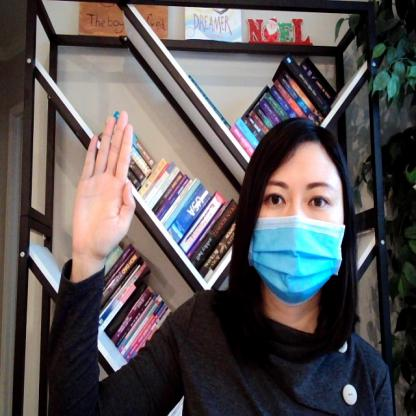hello: (75, 109, 136, 256)
